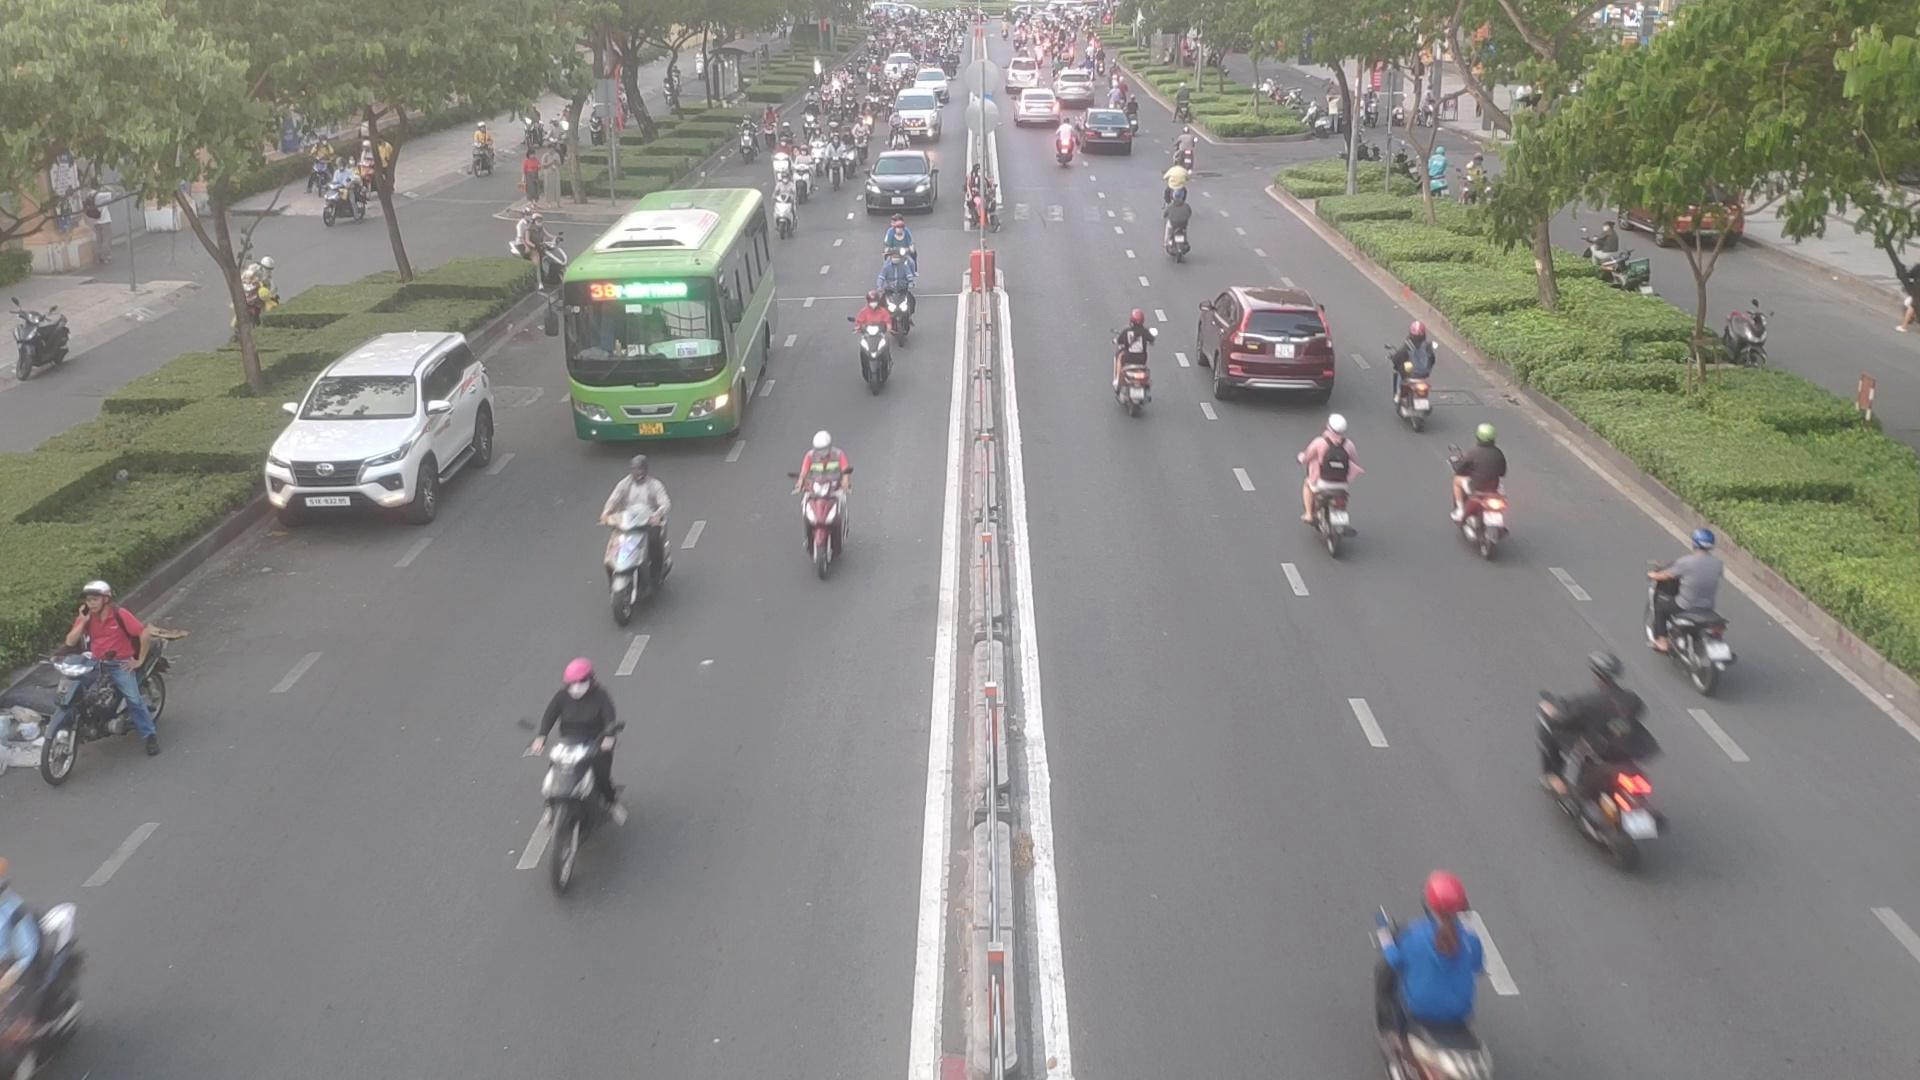bus: (559, 214, 793, 450)
car: (268, 330, 513, 526), (1203, 281, 1338, 404), (858, 152, 940, 216), (1013, 90, 1065, 127)
motorbike: (15, 584, 171, 781), (1538, 669, 1684, 868), (516, 665, 636, 894), (1370, 903, 1520, 1080), (0, 856, 88, 1077), (1647, 534, 1756, 684), (600, 465, 678, 611), (1444, 422, 1526, 554), (1291, 419, 1367, 555), (786, 436, 860, 575), (1390, 324, 1461, 429), (845, 290, 916, 392), (1102, 305, 1164, 413), (876, 222, 928, 278), (1151, 196, 1193, 265), (1050, 124, 1080, 167)
